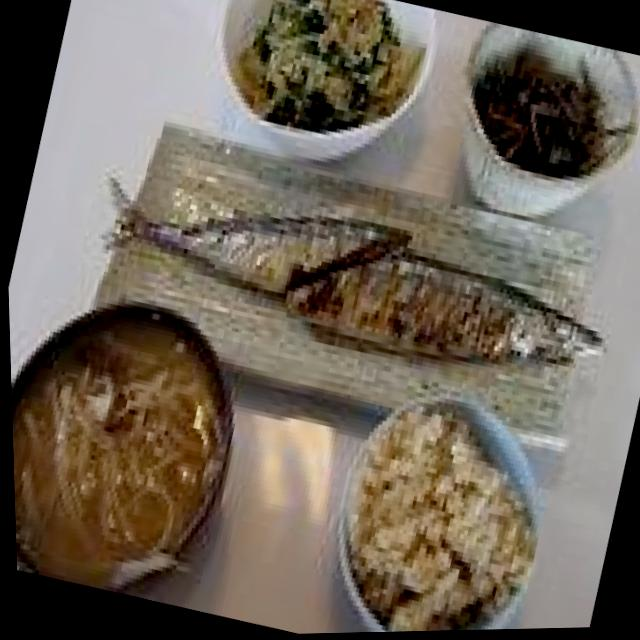熟制海鲜: (332, 18, 589, 613)
